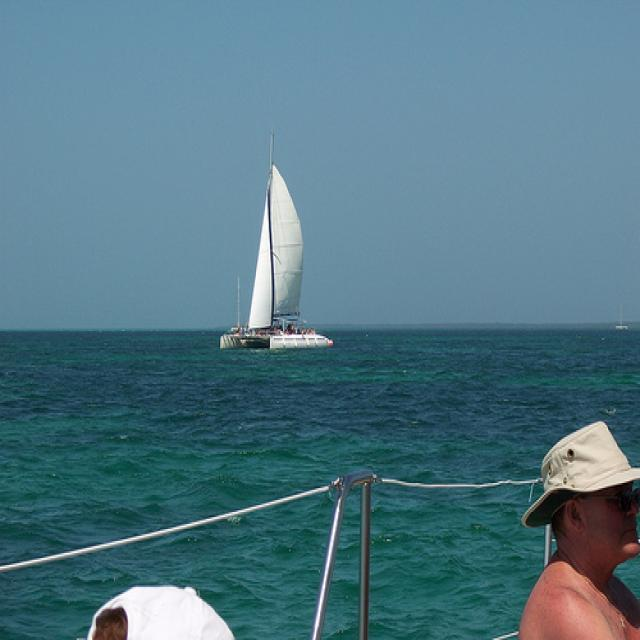Ship: (221, 162, 333, 352)
